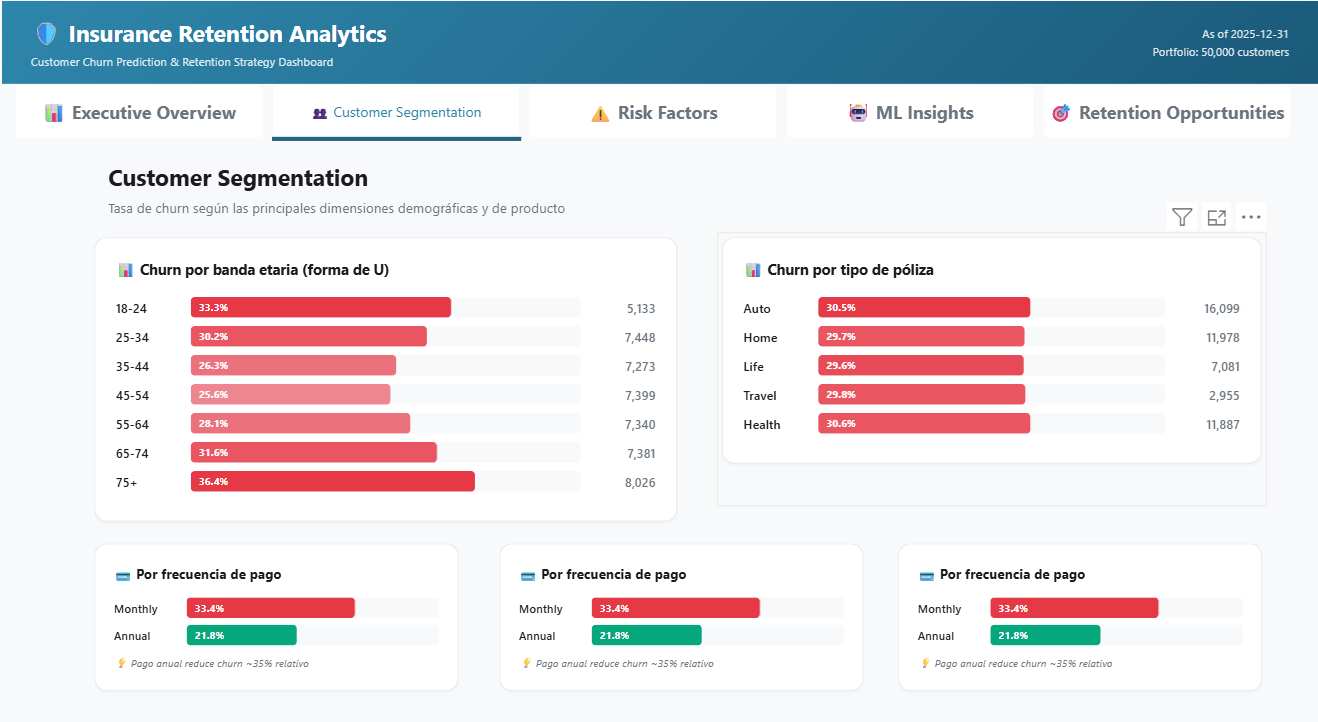

Layout of this report page (visuals, bound fields, positions):
{"tool":"powerbi","page":{"name":"👥 Customer Segmentation","canvas":[1280,720],"ordinal":1},"visuals":[{"type":"htmlContent443BE3AD55E043BF878BED274D3A6855","fields":{"content":["_Measures.HTML_PageHeader"]},"box":[0,10,1280,100],"z":0},{"type":"pageNavigator","box":[17.8,97,1233.5,50.4],"z":1000},{"type":"shape","box":[265.3,125.3,240.5,44.2],"z":2000},{"type":"htmlContent443BE3AD55E043BF878BED274D3A6855","fields":{"content":["_Measures.HTML_Title_Segmentation"]},"box":[102,155,497,96],"z":3000},{"type":"htmlContent443BE3AD55E043BF878BED274D3A6855","fields":{"content":["_Measures.HTML_ChurnByAge"]},"box":[89,238,572,298],"z":4000},{"type":"htmlContent443BE3AD55E043BF878BED274D3A6855","fields":{"content":["_Measures.HTML_ChurnByPolicyType"]},"box":[695,238,531,264],"z":5000},{"type":"htmlContent443BE3AD55E043BF878BED274D3A6855","fields":{"content":["_Measures.HTML_ChurnByPaymentFreq"]},"box":[89,533,361,160],"z":6000},{"type":"htmlContent443BE3AD55E043BF878BED274D3A6855","fields":{"content":["_Measures.HTML_ChurnByPaymentFreq"]},"box":[480,533,361,160],"z":7000},{"type":"htmlContent443BE3AD55E043BF878BED274D3A6855","fields":{"content":["_Measures.HTML_ChurnByPaymentFreq"]},"box":[865,533,361,160],"z":8000}]}

Visuals, with their boxes in screenshot pixels (x1, y1, x2, y2), scaled from the page's 1280x720 canvas onto the 1318x722 screenshot:
htmlContent443BE3AD55E043BF878BED274D3A6855 - _Measures.HTML_PageHeader: locate(0, 10, 1317, 110)
pageNavigator: locate(18, 97, 1288, 148)
shape: locate(273, 126, 521, 170)
htmlContent443BE3AD55E043BF878BED274D3A6855 - _Measures.HTML_Title_Segmentation: locate(105, 155, 617, 252)
htmlContent443BE3AD55E043BF878BED274D3A6855 - _Measures.HTML_ChurnByAge: locate(92, 239, 681, 537)
htmlContent443BE3AD55E043BF878BED274D3A6855 - _Measures.HTML_ChurnByPolicyType: locate(716, 239, 1262, 503)
htmlContent443BE3AD55E043BF878BED274D3A6855 - _Measures.HTML_ChurnByPaymentFreq: locate(92, 534, 463, 695)
htmlContent443BE3AD55E043BF878BED274D3A6855 - _Measures.HTML_ChurnByPaymentFreq: locate(494, 534, 866, 695)
htmlContent443BE3AD55E043BF878BED274D3A6855 - _Measures.HTML_ChurnByPaymentFreq: locate(891, 534, 1262, 695)
